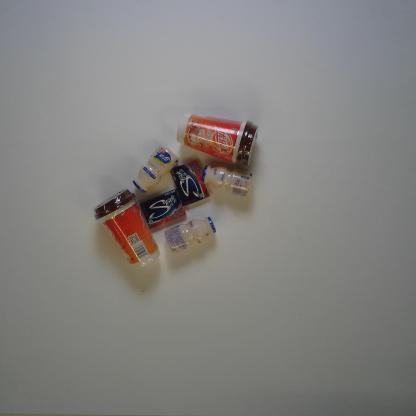Gum: (140, 188, 186, 229), (170, 159, 210, 206)
Instant Drink: (94, 188, 162, 271), (176, 114, 260, 166)
Milk: (132, 145, 179, 193), (164, 216, 216, 254), (200, 164, 254, 198)
